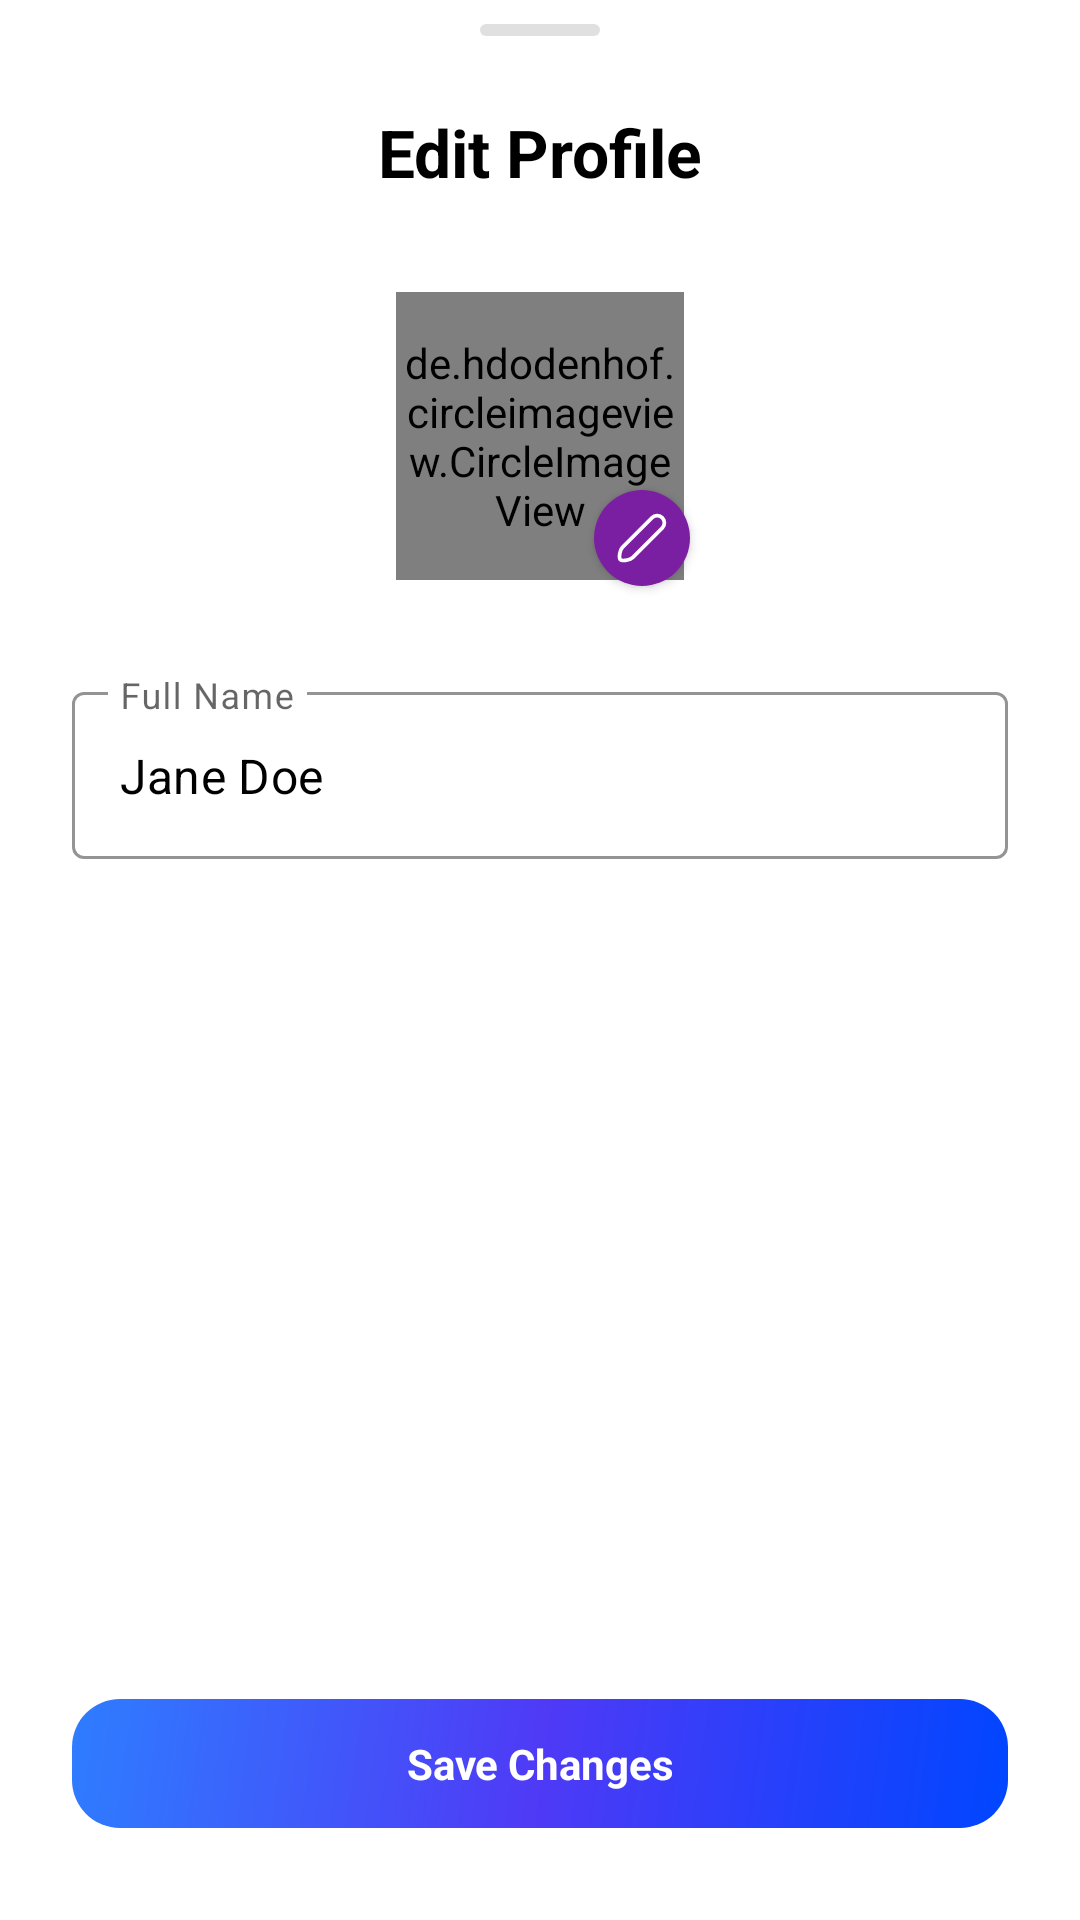

Point at icon controls on the screen. Image size 1080 x 1920, points as (x=x, y=y).
Edit Profile Image: (x=642, y=538)
